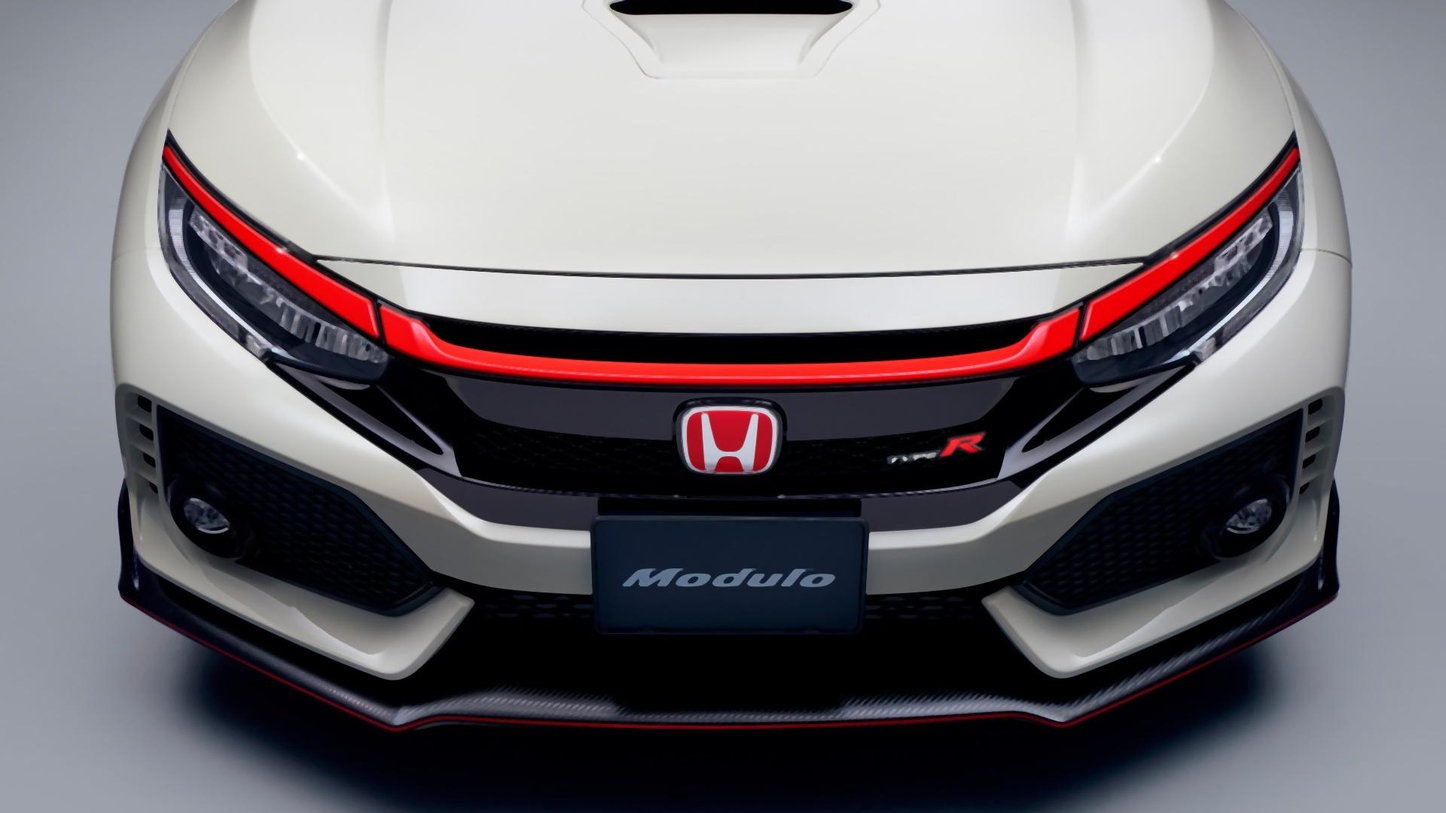Car hood: (163, 0, 1313, 349)
Front bumper: (101, 251, 1359, 753)
Headlight - -L-: (1057, 126, 1311, 407)
Headlight - -R-: (146, 123, 402, 398)
